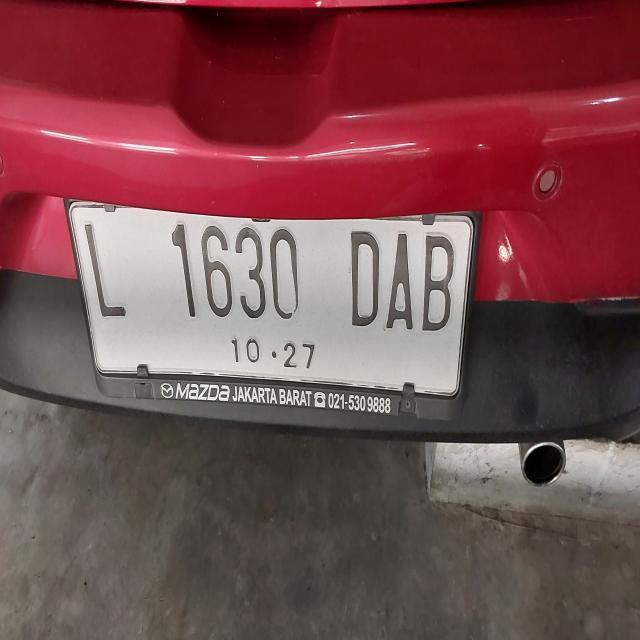0: (267, 222, 306, 324)
1: (158, 214, 206, 346)
3: (230, 213, 268, 322)
6: (196, 210, 241, 328)
A: (384, 221, 416, 338)
B: (418, 227, 462, 345)
D: (346, 216, 384, 336)
L: (76, 208, 136, 344)
